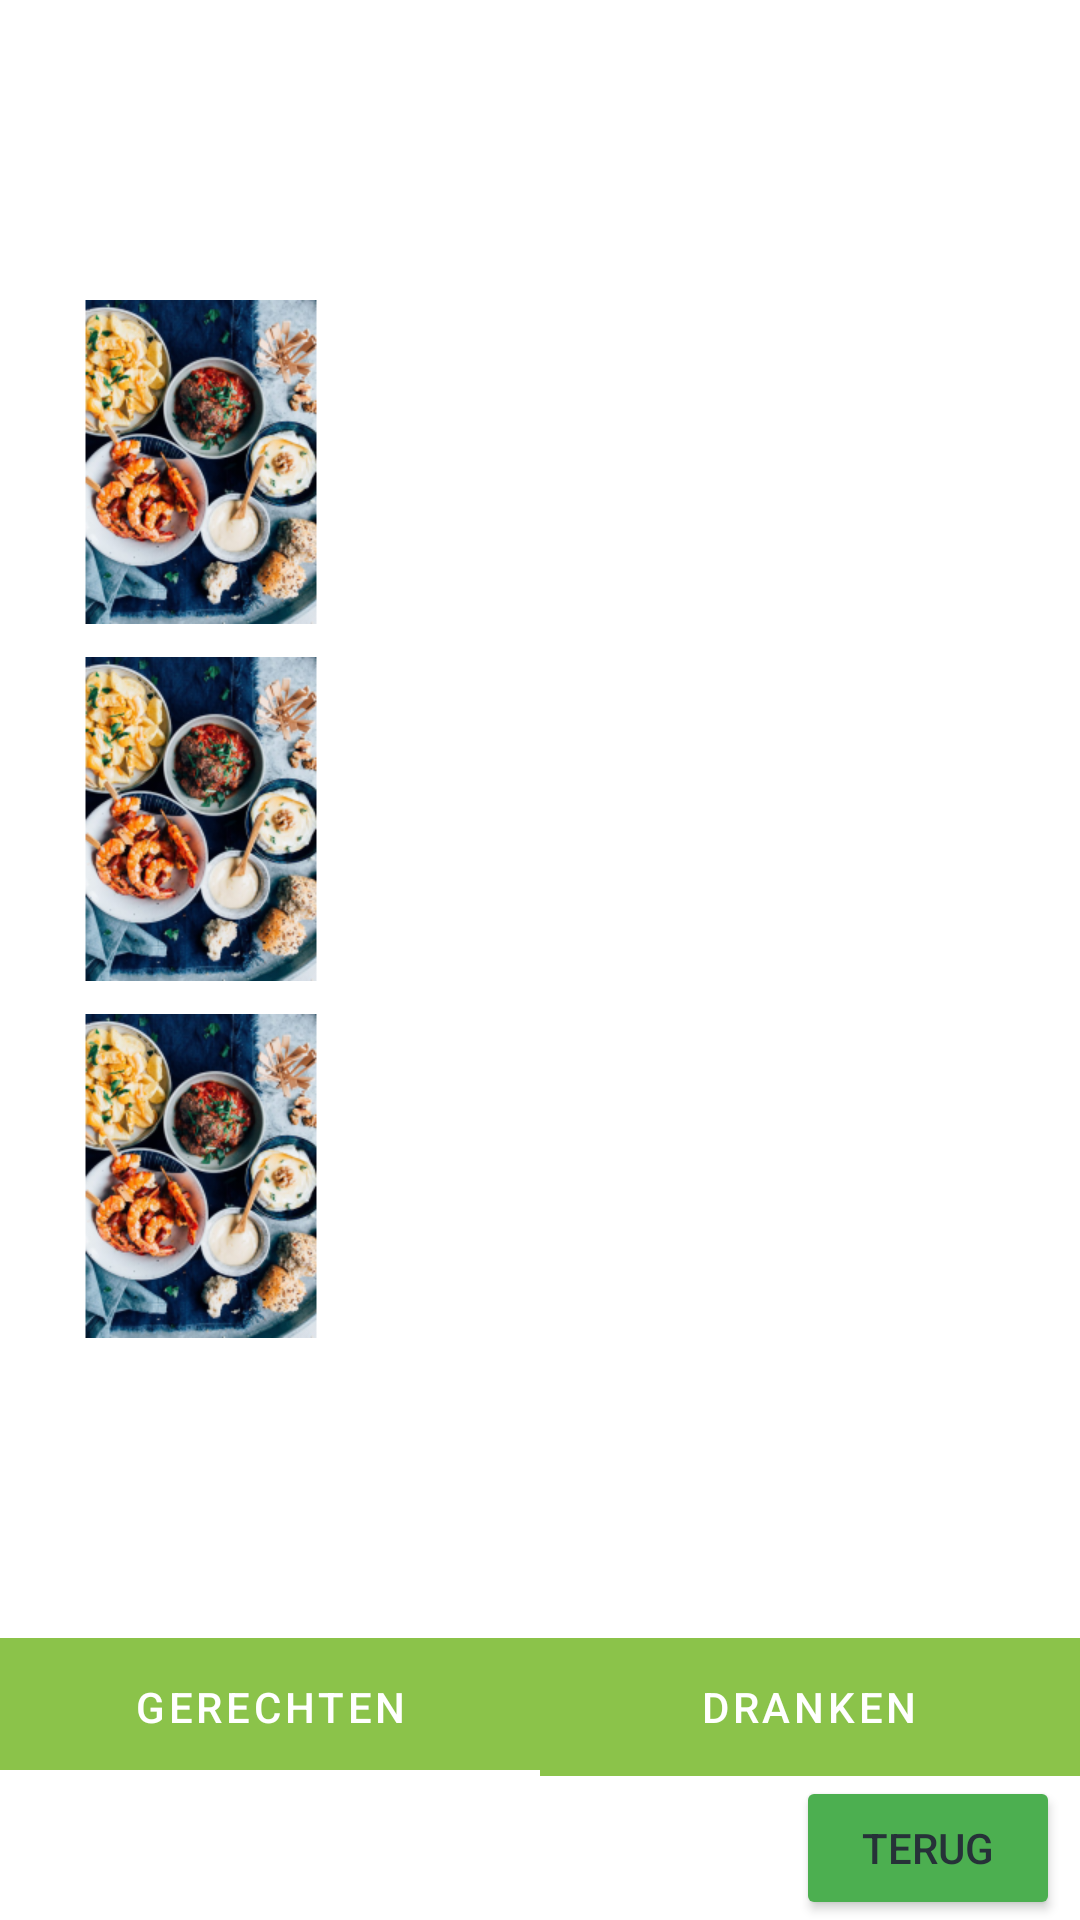

Icons on this 1080 × 1920 Android screen, each with its box as (x1, y1, x2, y2):
tappasimage zes: (85, 300, 317, 624), (85, 657, 317, 981), (85, 1014, 317, 1338)
